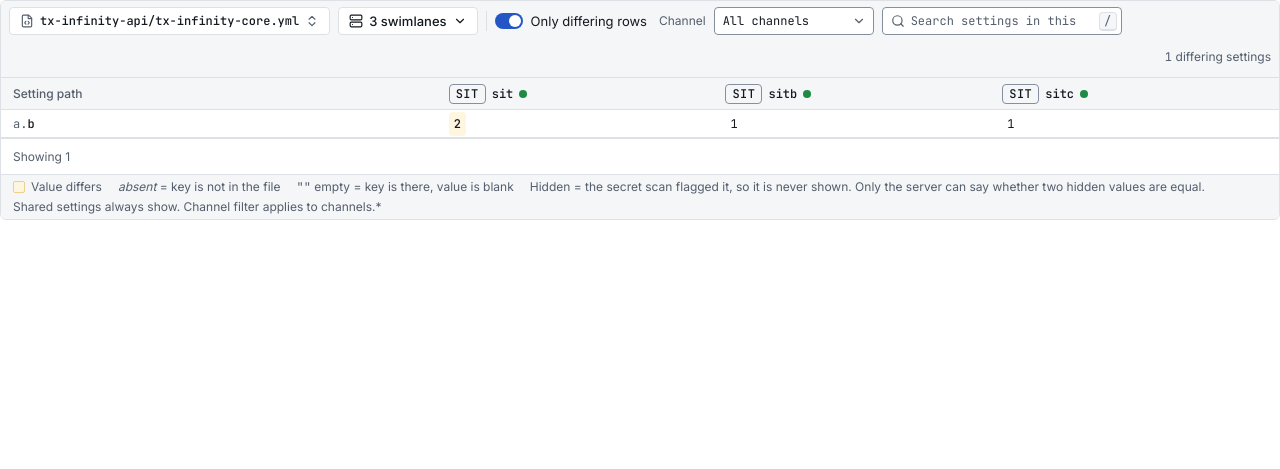
Test: the states of the grid › says no setting matches a search over the rows loaded, and clears it
This screenshot has width=1280, height=469.
In the search field labelled "Search settings": (1002, 21) [911,8,1093,34], type "zzz.retry"
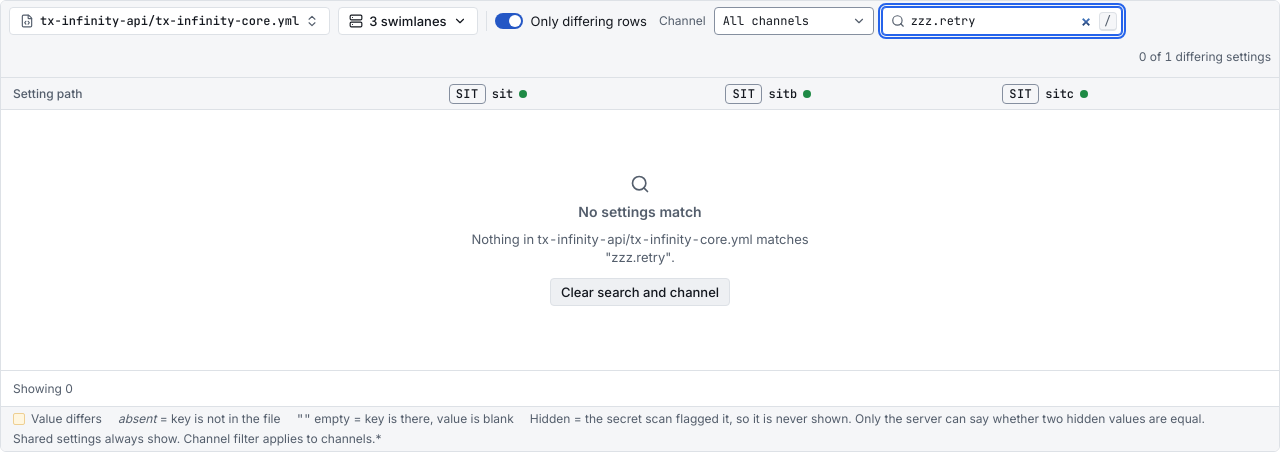
expect the text "No settings match" is shown: met, box [578,202,702,222]
Click the button "Clear search and channel": (640, 292) [550,278,730,306]
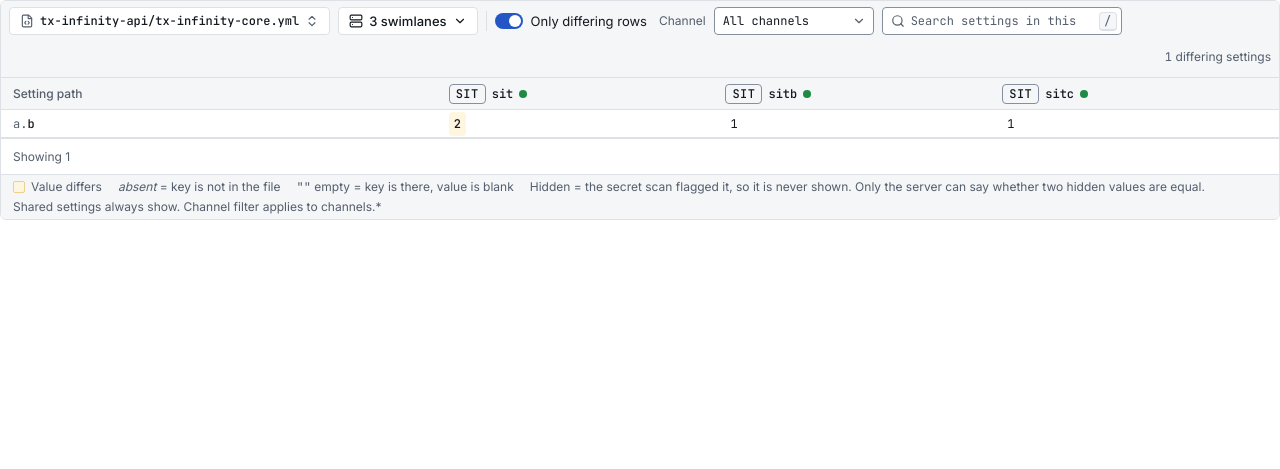
expect the text "No settings match" is gone: met
